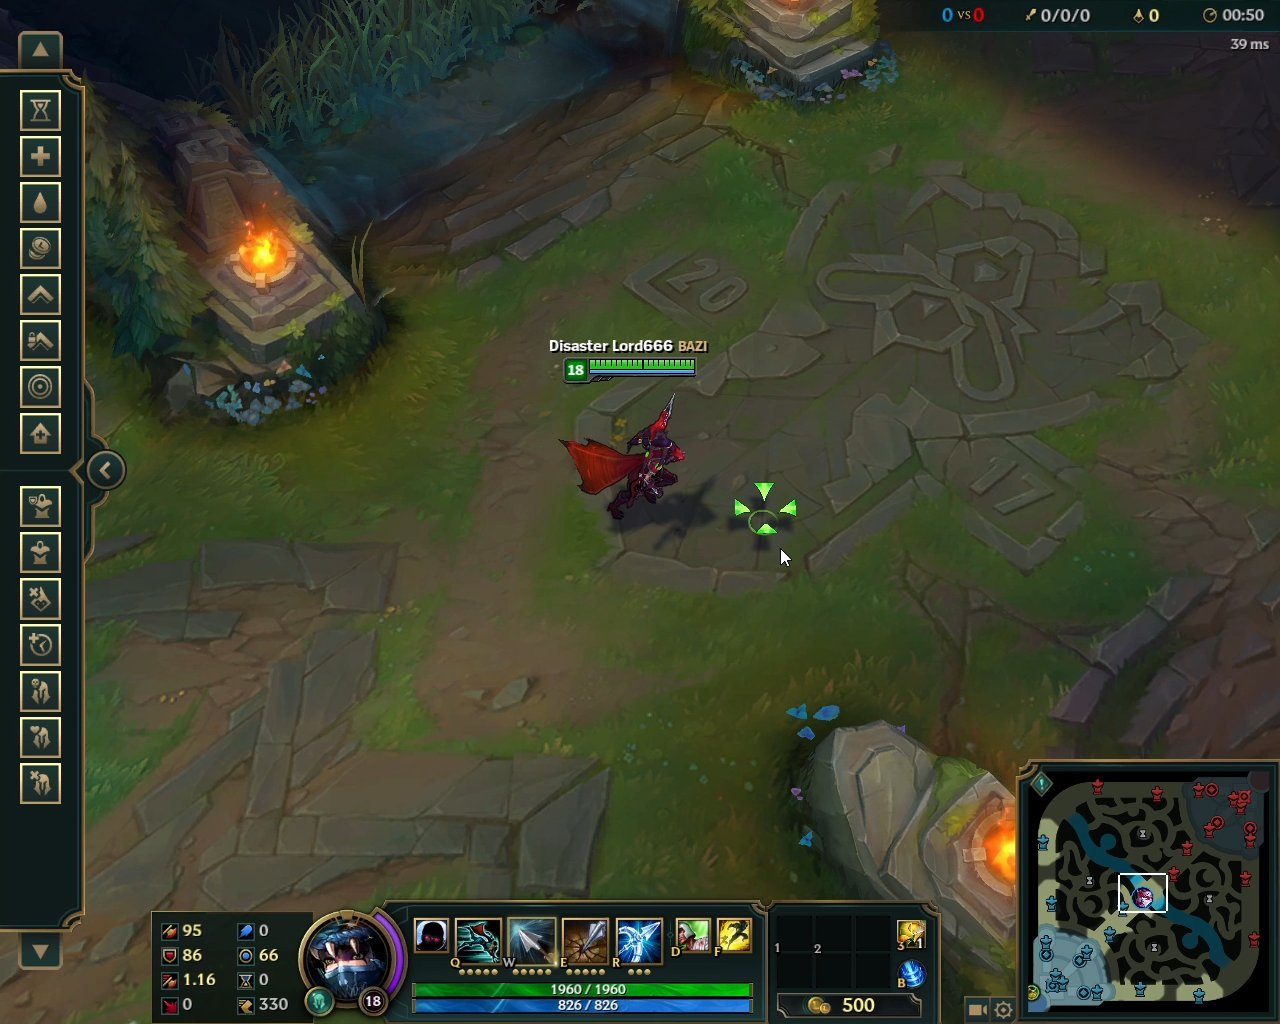Vayne: (550, 387, 696, 532)
